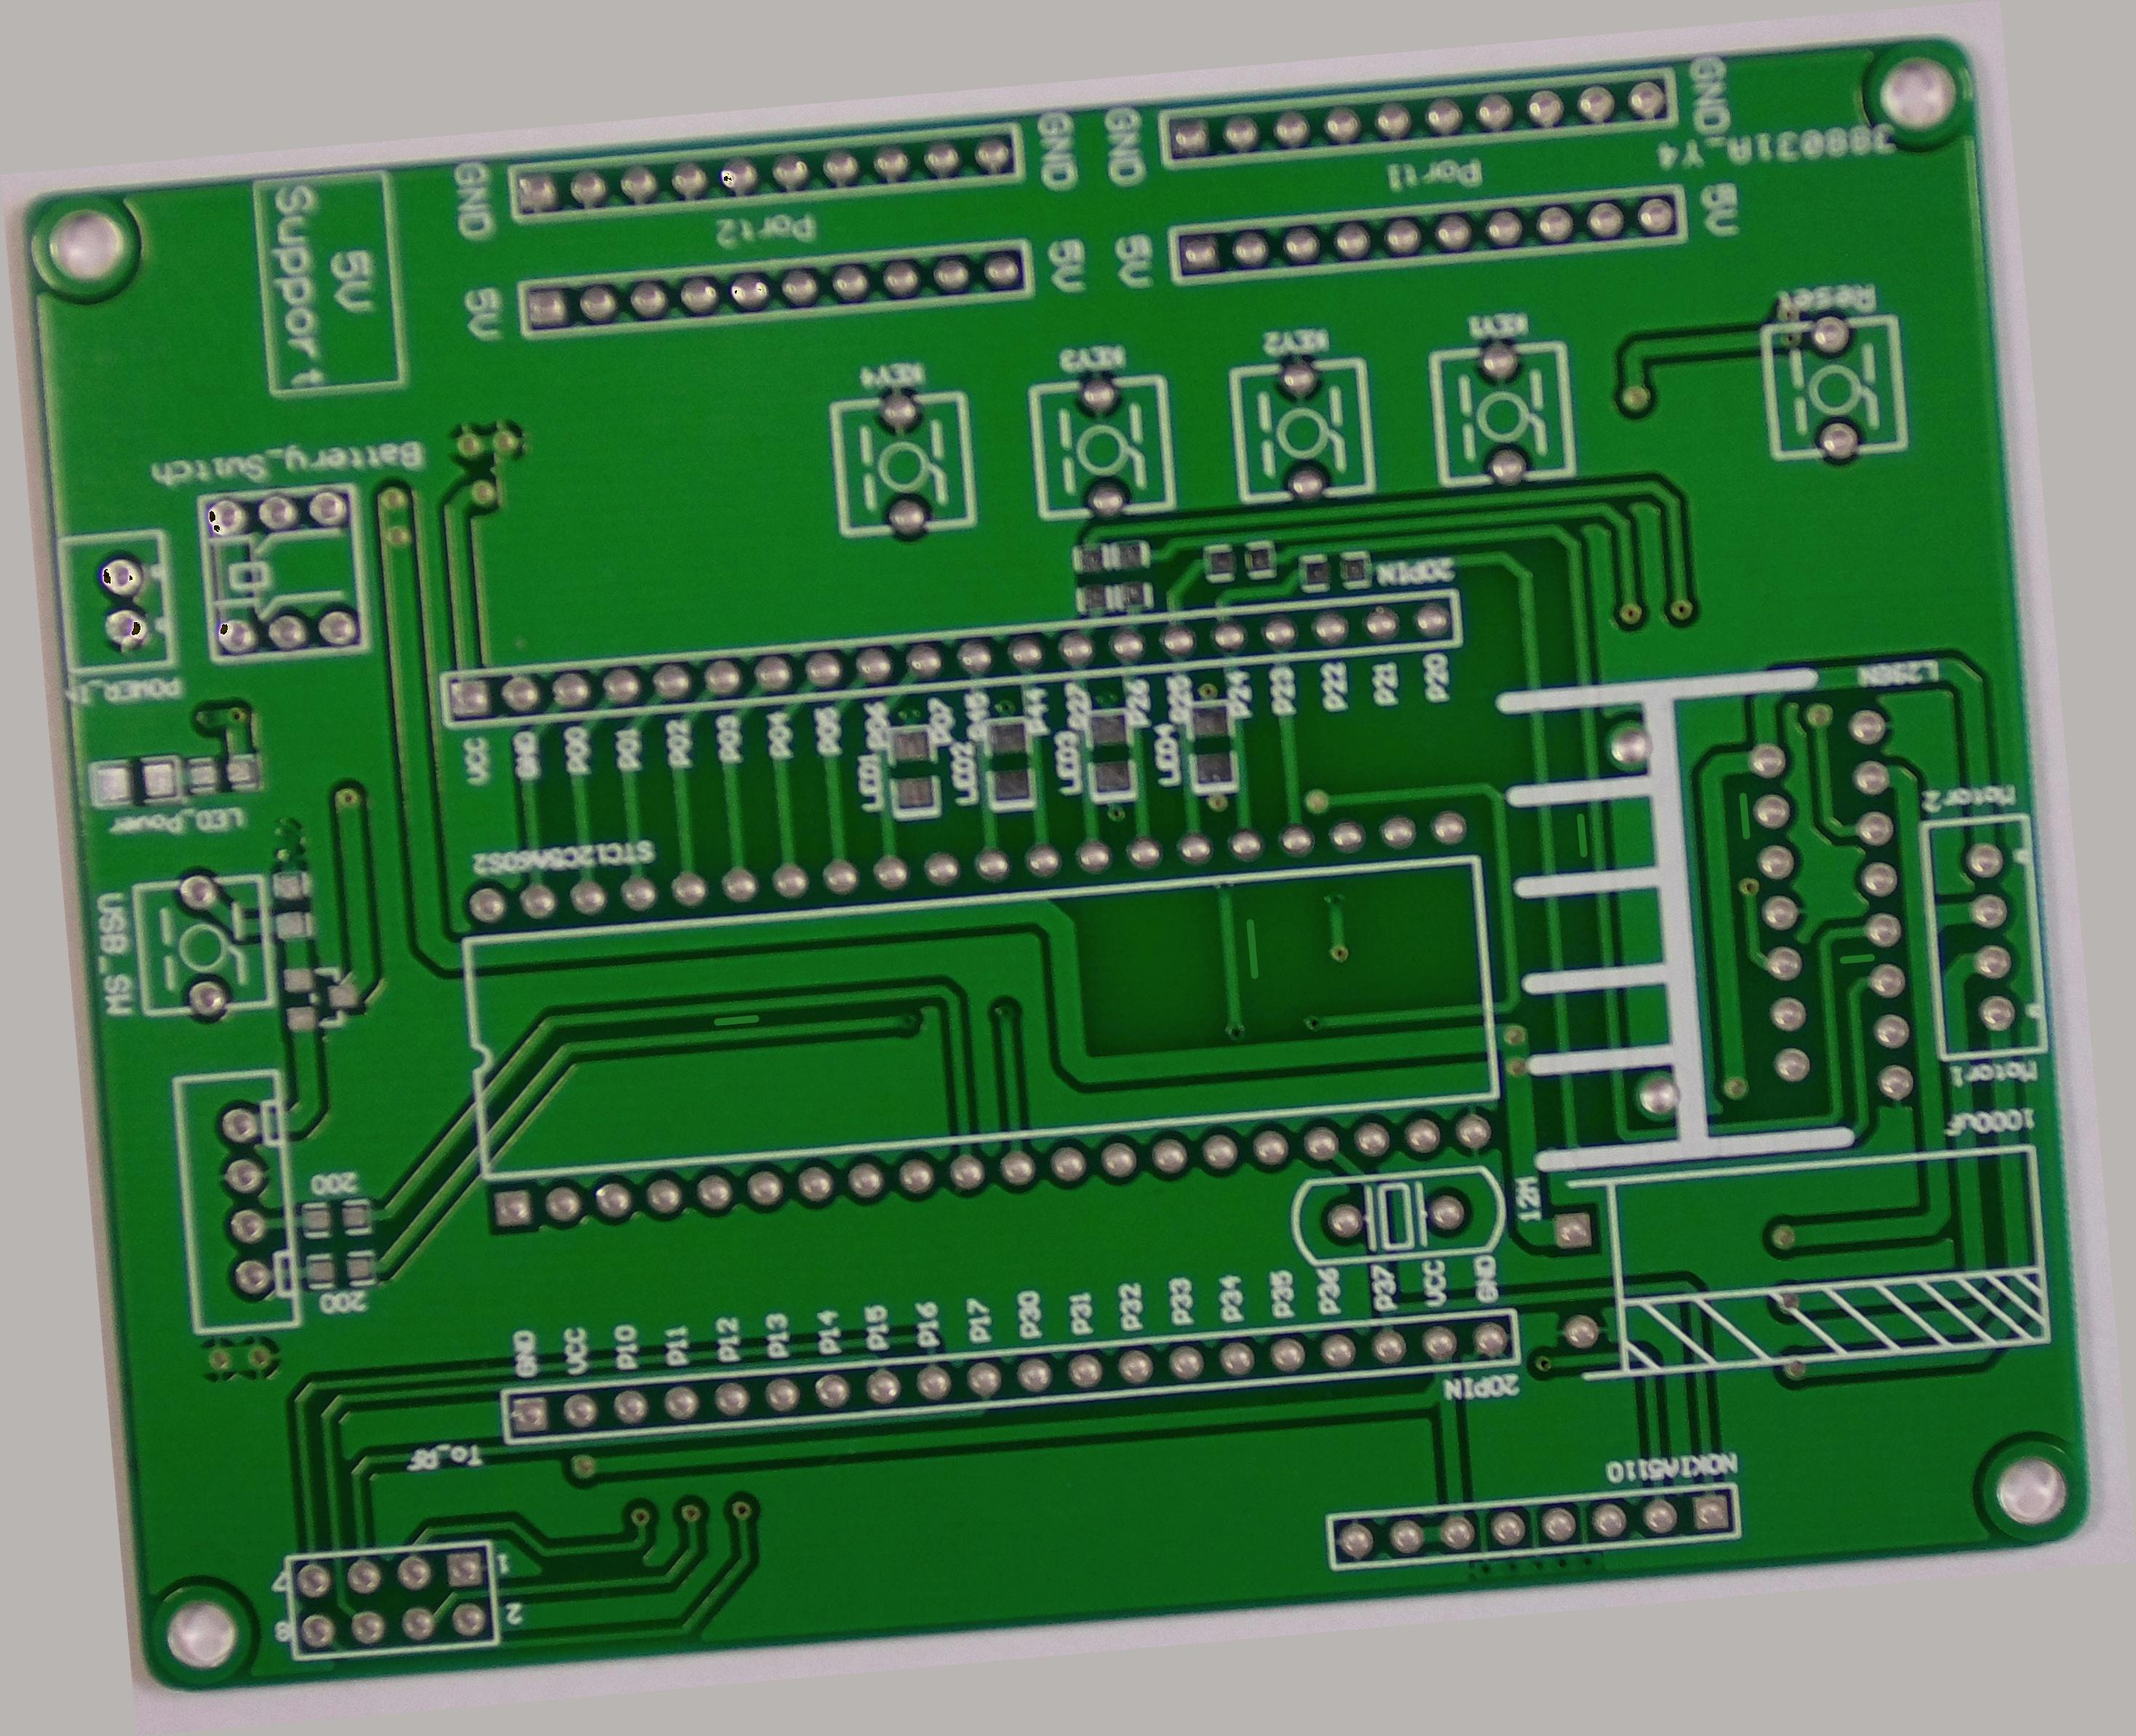spurious_copper: (1234, 909, 1272, 990), (703, 1001, 772, 1040), (1826, 941, 1886, 978), (1566, 802, 1601, 861), (1729, 785, 1762, 843)
